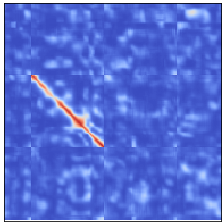action_path: (28, 75, 103, 149)
